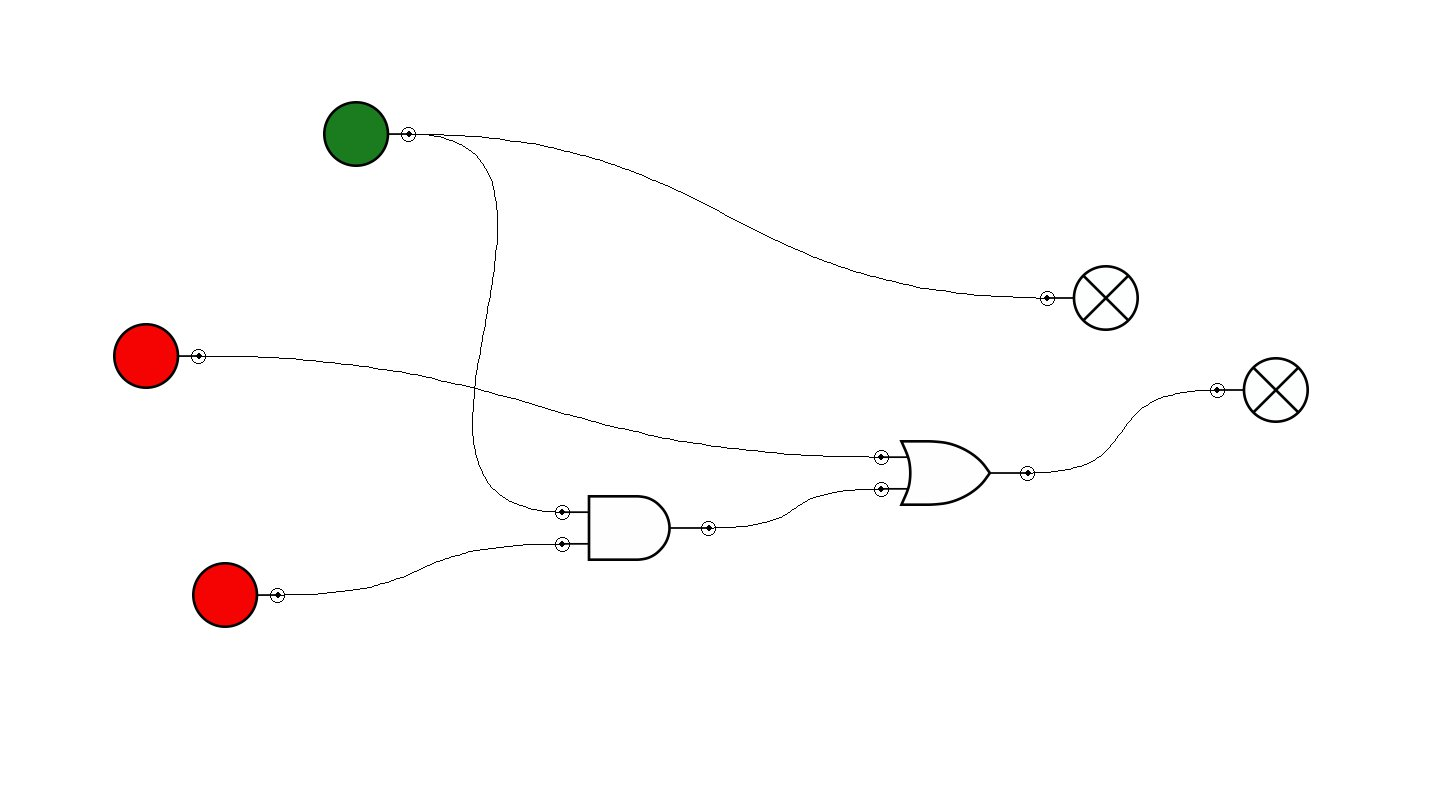and: (555, 495, 716, 561)
bulb: (1210, 357, 1309, 423), (1040, 265, 1139, 331)
or: (874, 440, 1035, 506)
switch_False: (113, 323, 206, 389), (192, 562, 285, 628)
switch_True: (323, 101, 416, 167)
